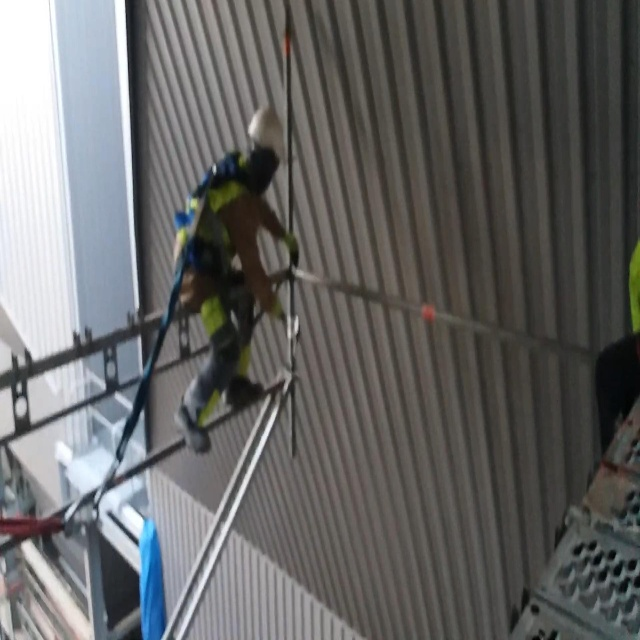Arnes_seguridad: (169, 154, 270, 328)
